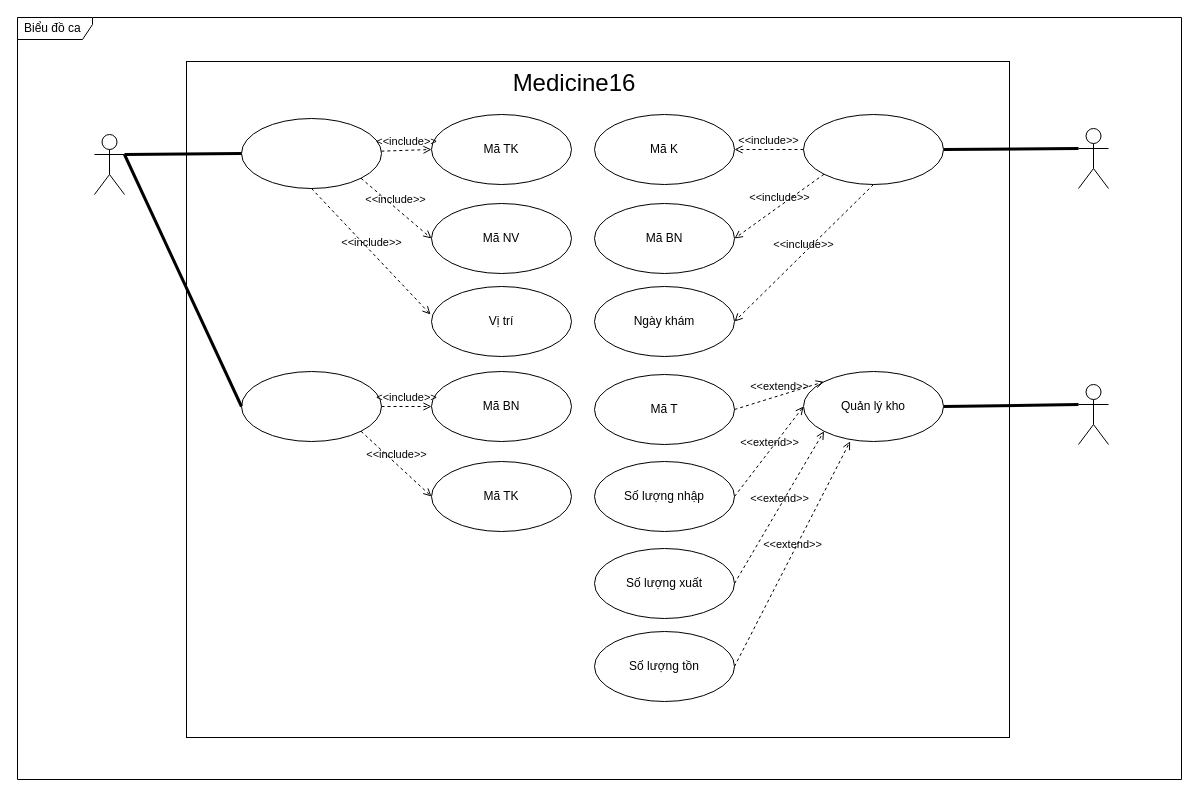
This 1199x797 diagram has some shape labels left out. Each missing label, with the box of its shape:
Bác sĩ: (1078, 128, 1108, 188)
Quản lý bệnh nhân: (240, 370, 382, 442)
Quản lý lịch khám: (802, 114, 944, 184)
Quản lý nhân viên: (240, 118, 382, 188)
Quản trị viên: (94, 134, 124, 194)
Thủ kho: (1078, 384, 1108, 444)
